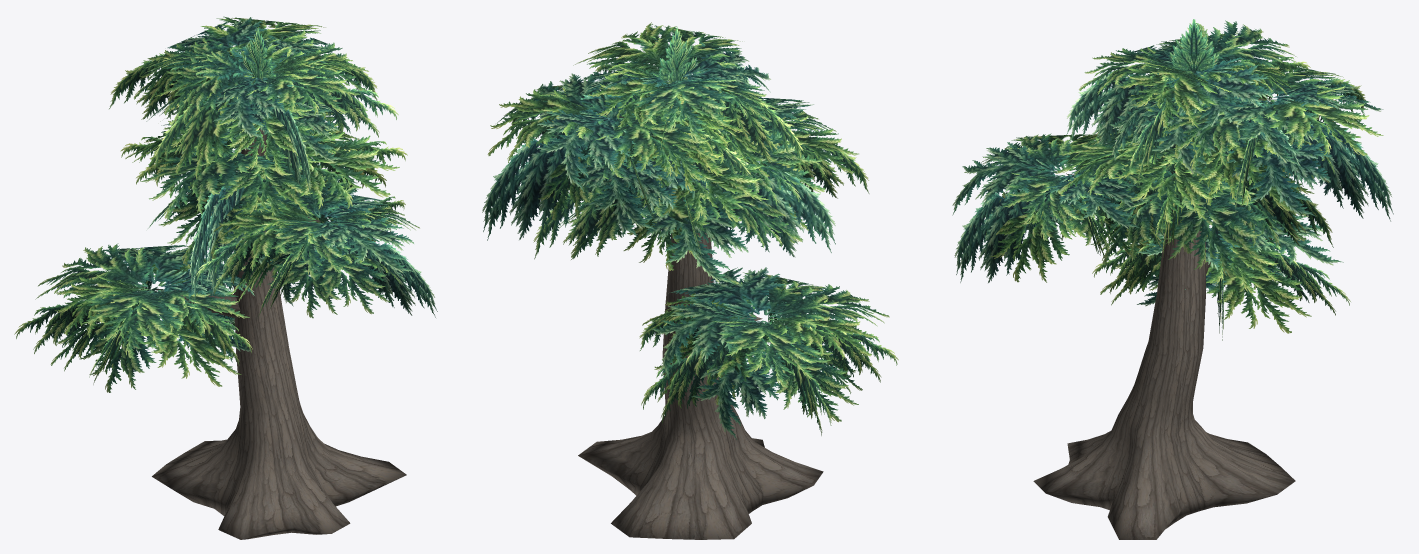
Rendered from tree_root_giant_b.glb.
The picture shows the model from 3 angles, left to right: view 1: azimuth 30°, elevation 25°; view 2: azimuth 150°, elevation 25°; view 3: azimuth 270°, elevation 25°; orthographic projection. The views are drawn at different scales.
Parts seen in each view (by area): view 1: tree_root_giant_b; view 2: tree_root_giant_b; view 3: tree_root_giant_b.
Boxes of the visible parts, bbox=[...] form: tree_root_giant_b: bbox=[14, 16, 437, 539]; tree_root_giant_b: bbox=[482, 22, 898, 539]; tree_root_giant_b: bbox=[952, 19, 1393, 539].
Bounding box in the file's own units: 20.78 × 26.42 × 23.47.
2 materials, 2 textured.
